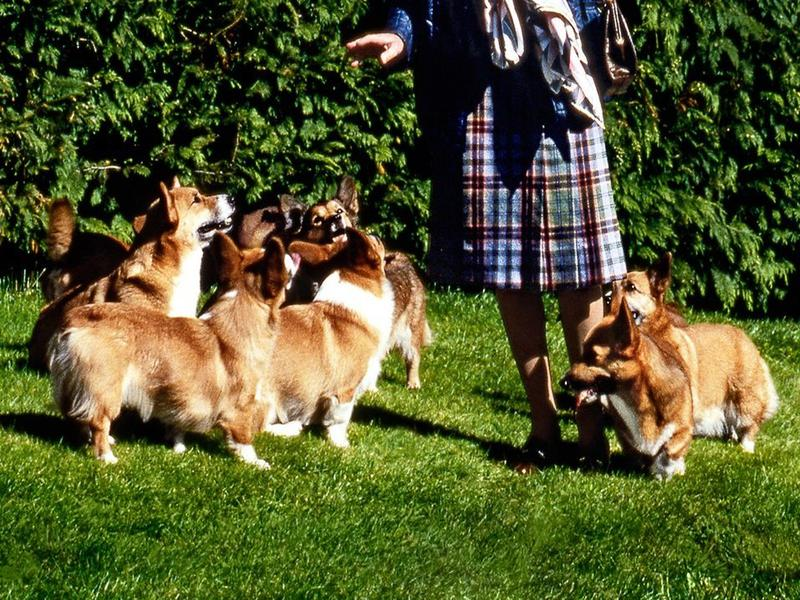corgi: (146, 174, 235, 238)
